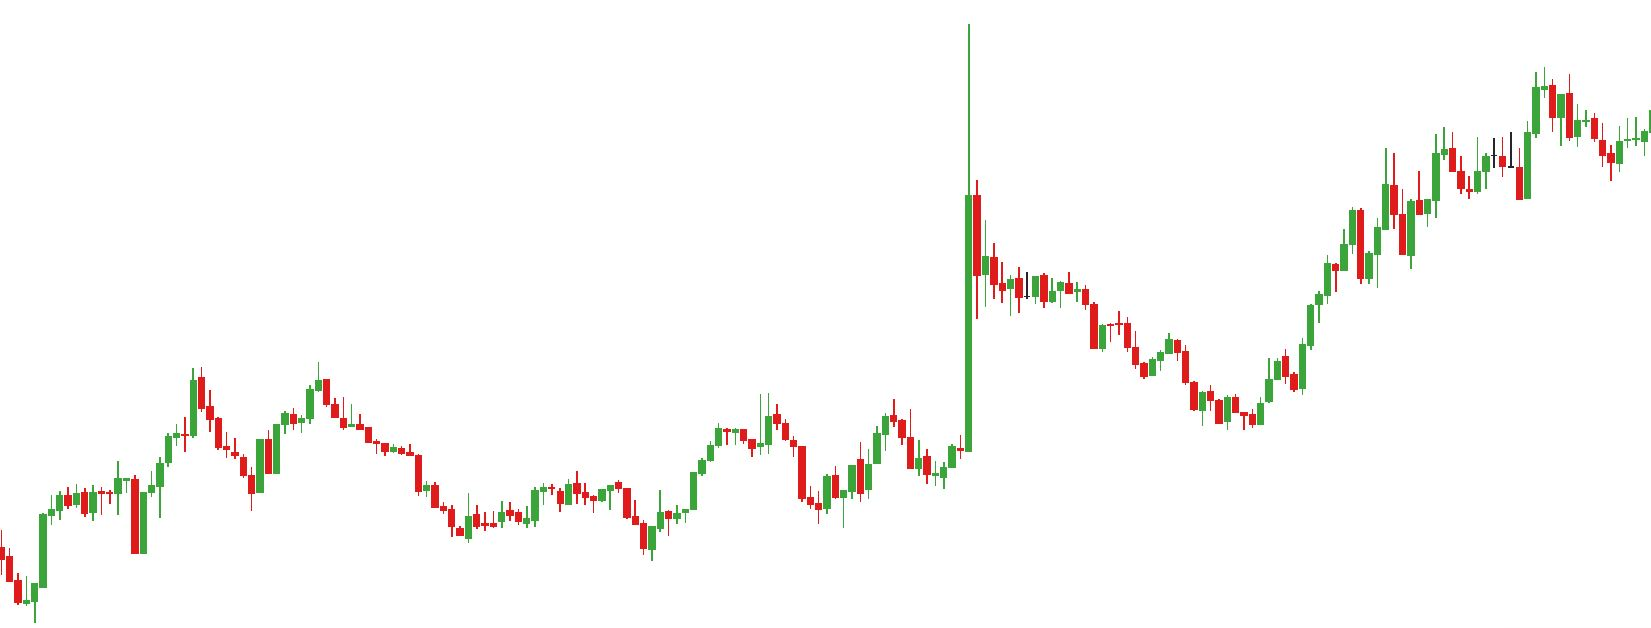buy: (78, 483, 148, 560), (1465, 152, 1536, 202)
